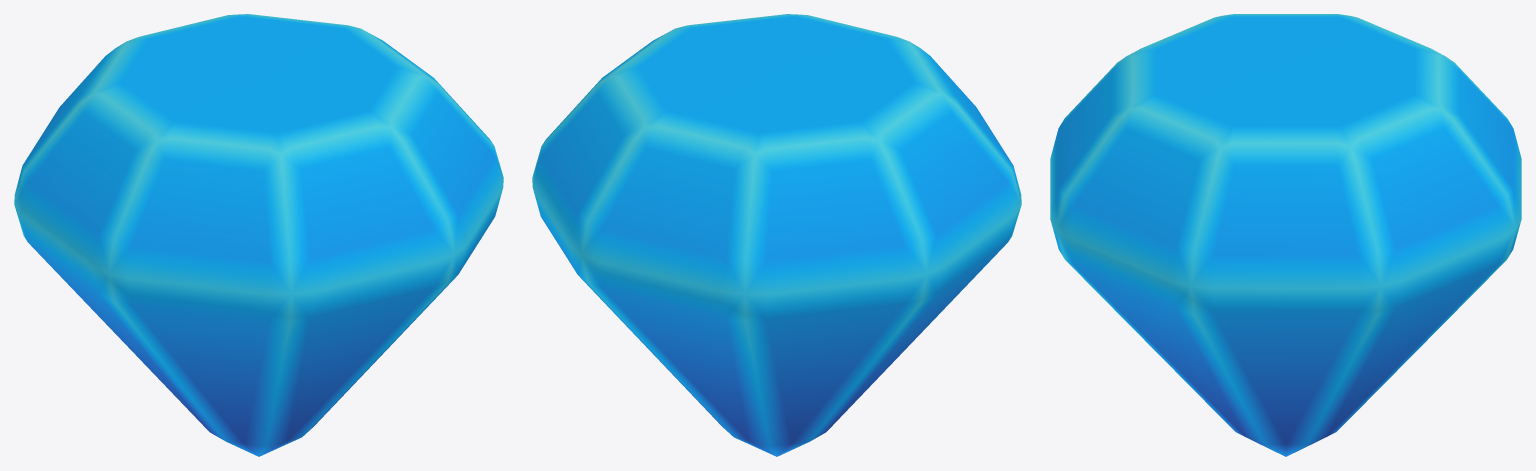
The model's file is diamond_001.glb.
The picture shows the model from 3 angles, left to right: view 1: azimuth 30°, elevation 25°; view 2: azimuth 150°, elevation 25°; view 3: azimuth 270°, elevation 25°; orthographic projection.
Parts seen in each view (by area): view 1: diamond_001; view 2: diamond_001; view 3: diamond_001.
Boxes of the visible parts, left/top/right/bottom form: diamond_001: left=14, top=14, right=503, bottom=456; diamond_001: left=532, top=14, right=1021, bottom=456; diamond_001: left=1050, top=14, right=1521, bottom=456.
Size of the model in its own units: 0.8612 by 0.7769 by 0.8612.
1 material, 1 textured.
